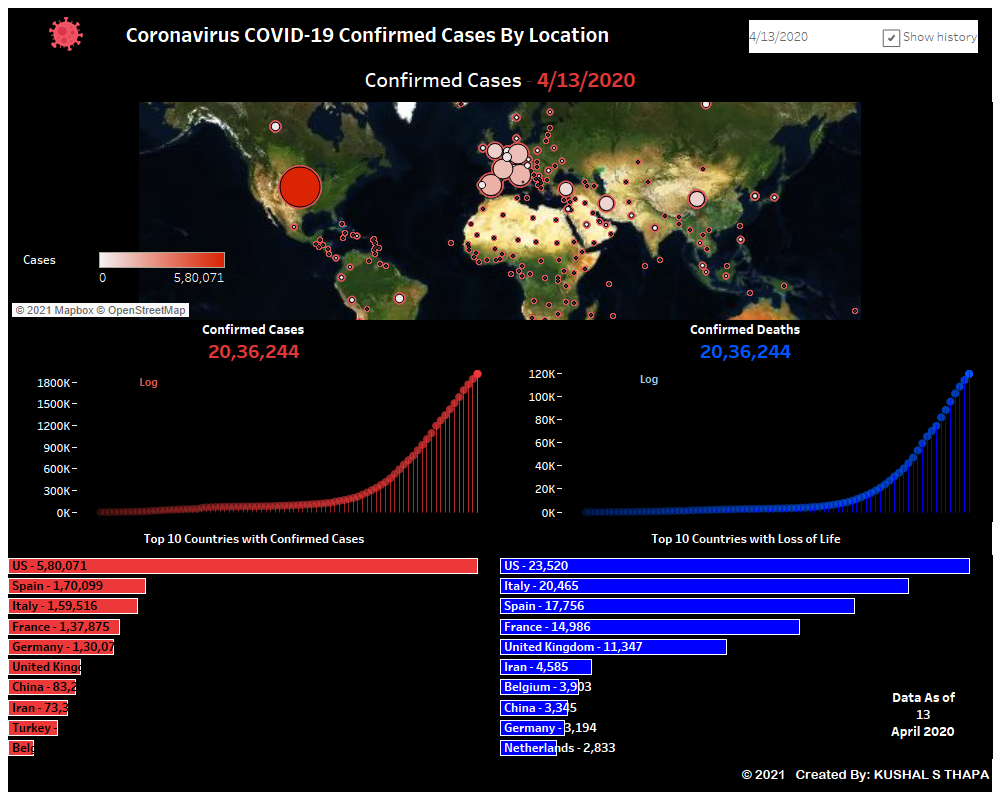

The dashboard page shown, as its layout file describes it:
{"tool":"tableau","page":{"name":"Dashboard 1","canvas":[1000,800],"ordinal":0},"visuals":[{"type":"image","param":"D:/Data Analytics/Anthony B. Smoak/COVID-19/medical.png","box":[4,4,123,51.5]},{"type":"text","box":[127,4,869,51.5]},{"type":"currpage","title":"Map","box":[749,20,229,33]},{"type":"worksheet","title":"Map","mark":"Automatic","box":[4,55.5,992,255.5]},{"type":"legend","title":"Map","param":"[federated.1n9mia00op4ik914uzvey1uzs1oo].[sum:Cases:qk]","box":[19,244,214,46]},{"type":"worksheet","title":"Confirmed Cases Ban","mark":"Automatic","box":[4,311,495.9,52.6]},{"type":"worksheet","title":"Confirmed Deaths Ban","mark":"Automatic","box":[499.9,311,496.1,52.6]},{"type":"worksheet","title":"Confirmed Cases Line","mark":"Automatic","rows":["Cases","Cases"],"cols":["Date"],"box":[4,363.6,495.9,158.6]},{"type":"worksheet","title":"Confirmed Deaths Line","mark":"Automatic","rows":["Cases","Cases"],"cols":["Date"],"box":[499.9,363.6,496.1,158.6]},{"type":"worksheet","title":"Confirmed Deaths (Log)","mark":"Automatic","rows":["Cases","Cases"],"cols":["Date"],"box":[500,364,492,157]},{"type":"worksheet","title":"Confirmed Cases Line (Log)","mark":"Automatic","rows":["Cases","Cases"],"cols":["Date"],"box":[8,365,490,157]},{"type":"dashboard-object","box":[603,367,92,24]},{"type":"dashboard-object","box":[94,370,109,24]},{"type":"text","box":[4,522.2,495.9,34.4]},{"type":"text","box":[499.9,522.2,496.1,34.4]},{"type":"worksheet","title":"Confirmed Cases Bar (unique)","mark":"Automatic","cols":["Cases"],"box":[4,556.5,495.9,205.1]},{"type":"worksheet","title":"Confirmed Deaths Bar (unique)","mark":"Automatic","cols":["Cases"],"box":[499.9,556.5,496.1,205.1]},{"type":"worksheet","title":"As of Date","mark":"Automatic","box":[862,665,109,76]},{"type":"text","box":[4,761.6,992,34.4]}]}

Visuals, with their boxes in screenshot pixels (x1, y1, x2, y2), scaled from the page's 1000x800 canvas onto the 1000x800 screenshot:
image: (4, 4, 127, 56)
text: (127, 4, 996, 56)
"Map" currpage: (749, 20, 978, 53)
"Map" worksheet: (4, 56, 996, 311)
"Map" legend: (19, 244, 233, 290)
"Confirmed Cases Ban" worksheet: (4, 311, 500, 364)
"Confirmed Deaths Ban" worksheet: (500, 311, 996, 364)
"Confirmed Cases Line" worksheet: (4, 364, 500, 522)
"Confirmed Deaths Line" worksheet: (500, 364, 996, 522)
"Confirmed Deaths (Log)" worksheet: (500, 364, 992, 521)
"Confirmed Cases Line (Log)" worksheet: (8, 365, 498, 522)
dashboard-object: (603, 367, 695, 391)
dashboard-object: (94, 370, 203, 394)
text: (4, 522, 500, 557)
text: (500, 522, 996, 557)
"Confirmed Cases Bar (unique)" worksheet: (4, 556, 500, 762)
"Confirmed Deaths Bar (unique)" worksheet: (500, 556, 996, 762)
"As of Date" worksheet: (862, 665, 971, 741)
text: (4, 762, 996, 796)
